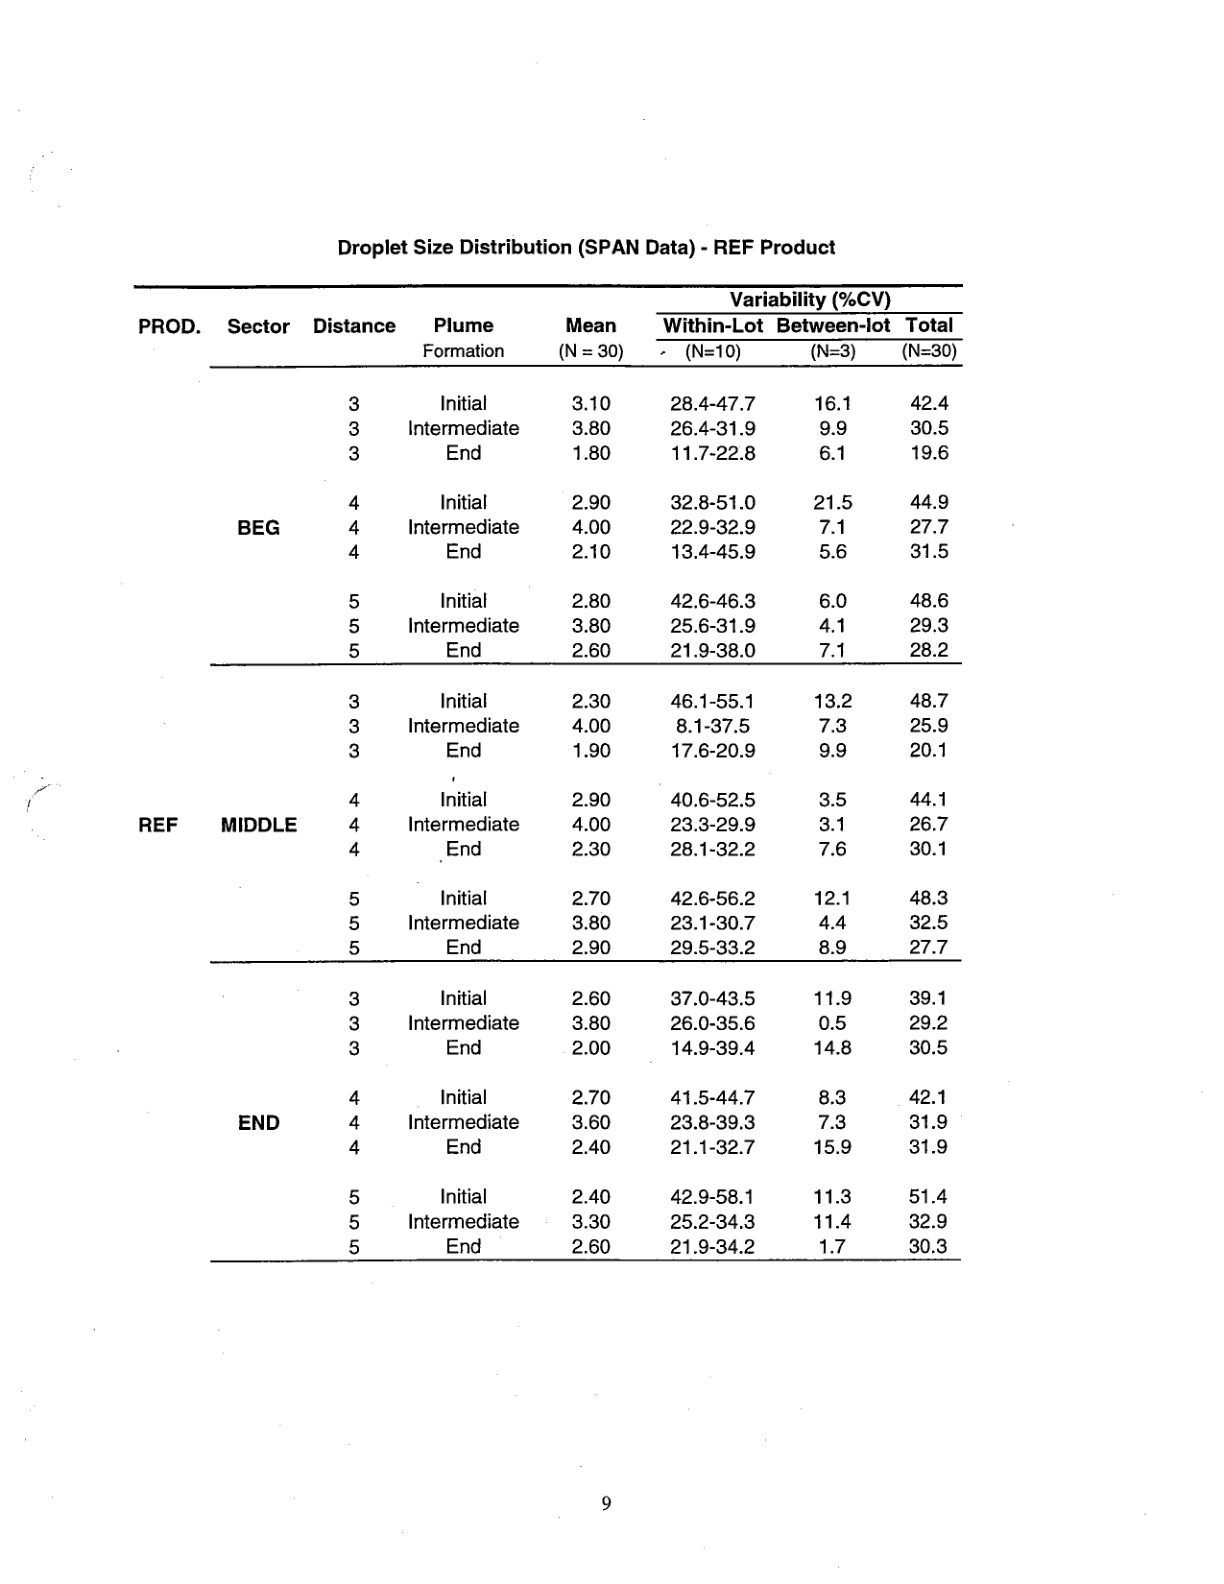partial_lined_merged_cells: (130, 282, 966, 1264)
